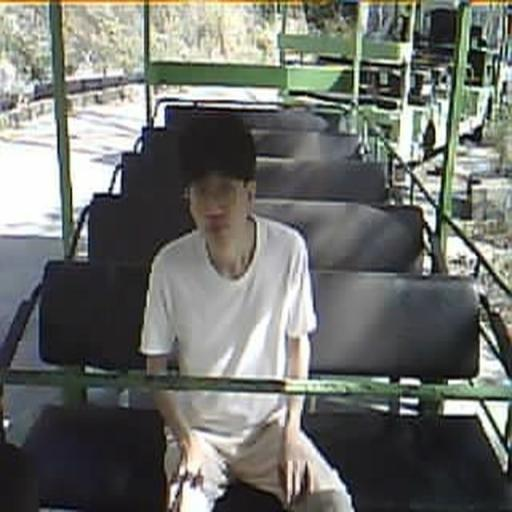persona: (138, 112, 356, 511)
